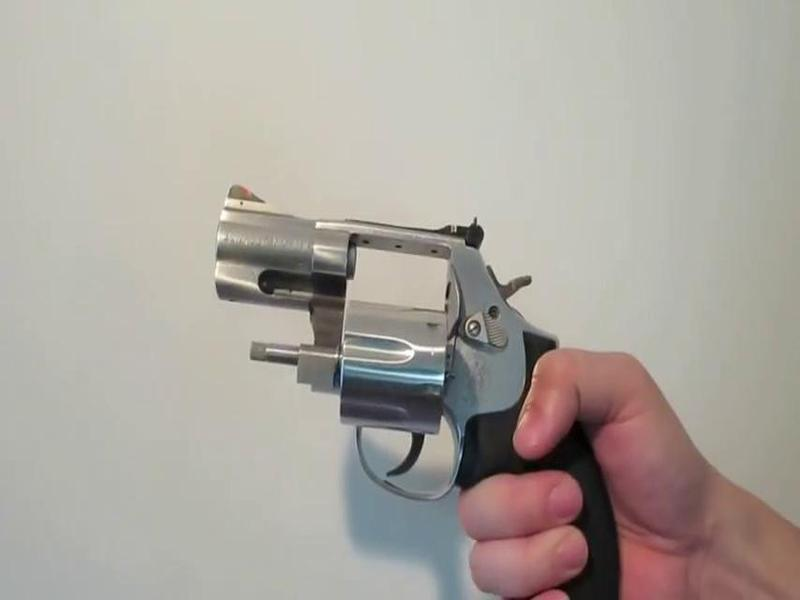Revolver: (186, 159, 616, 600)
